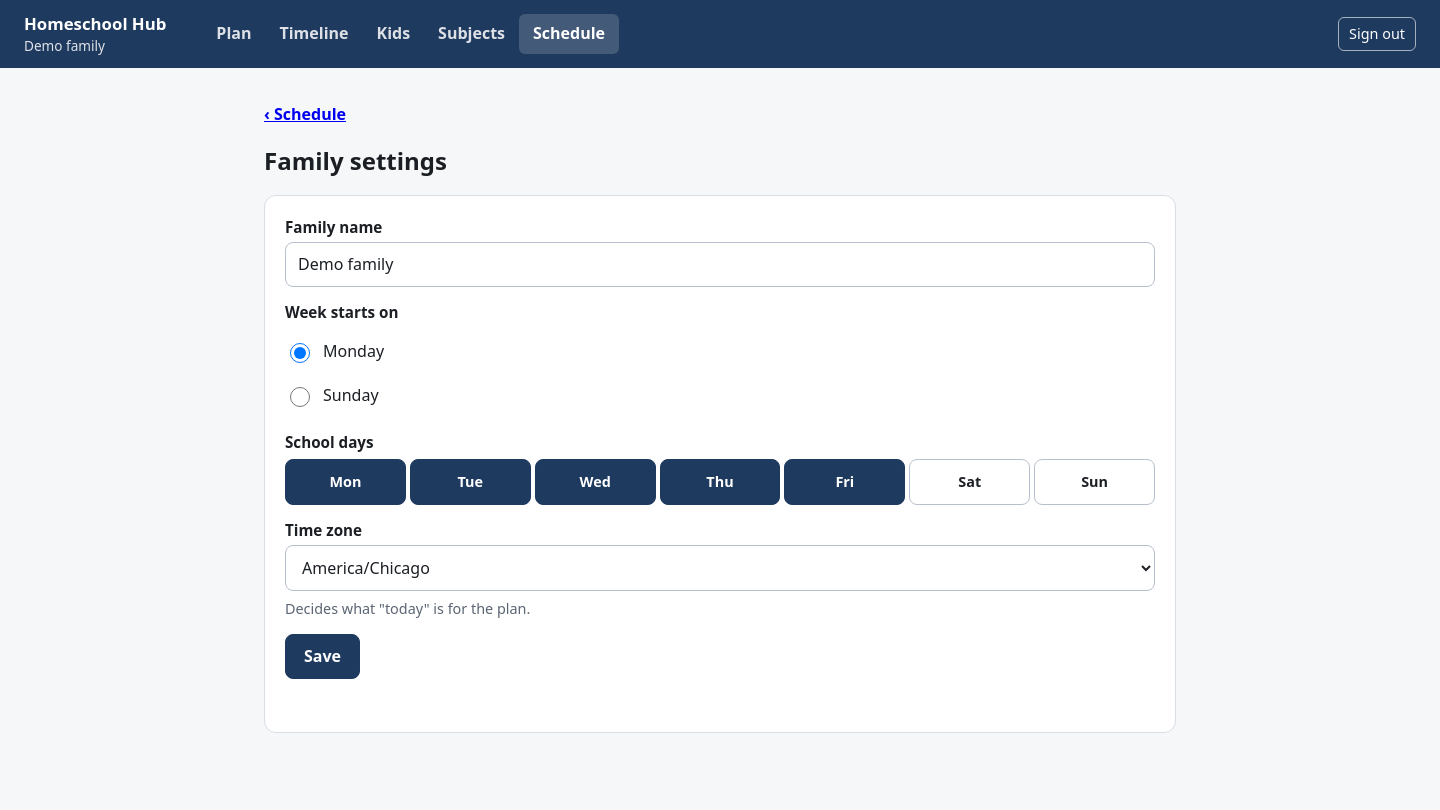
Family settings form › time zone change sends only timeZone
Expected: the form named "Family settings" is shown, [264, 195, 1176, 733]
Select "America/New York" in the dropdown labelled "Time zone": x=720, y=568 [285, 545, 1155, 591]
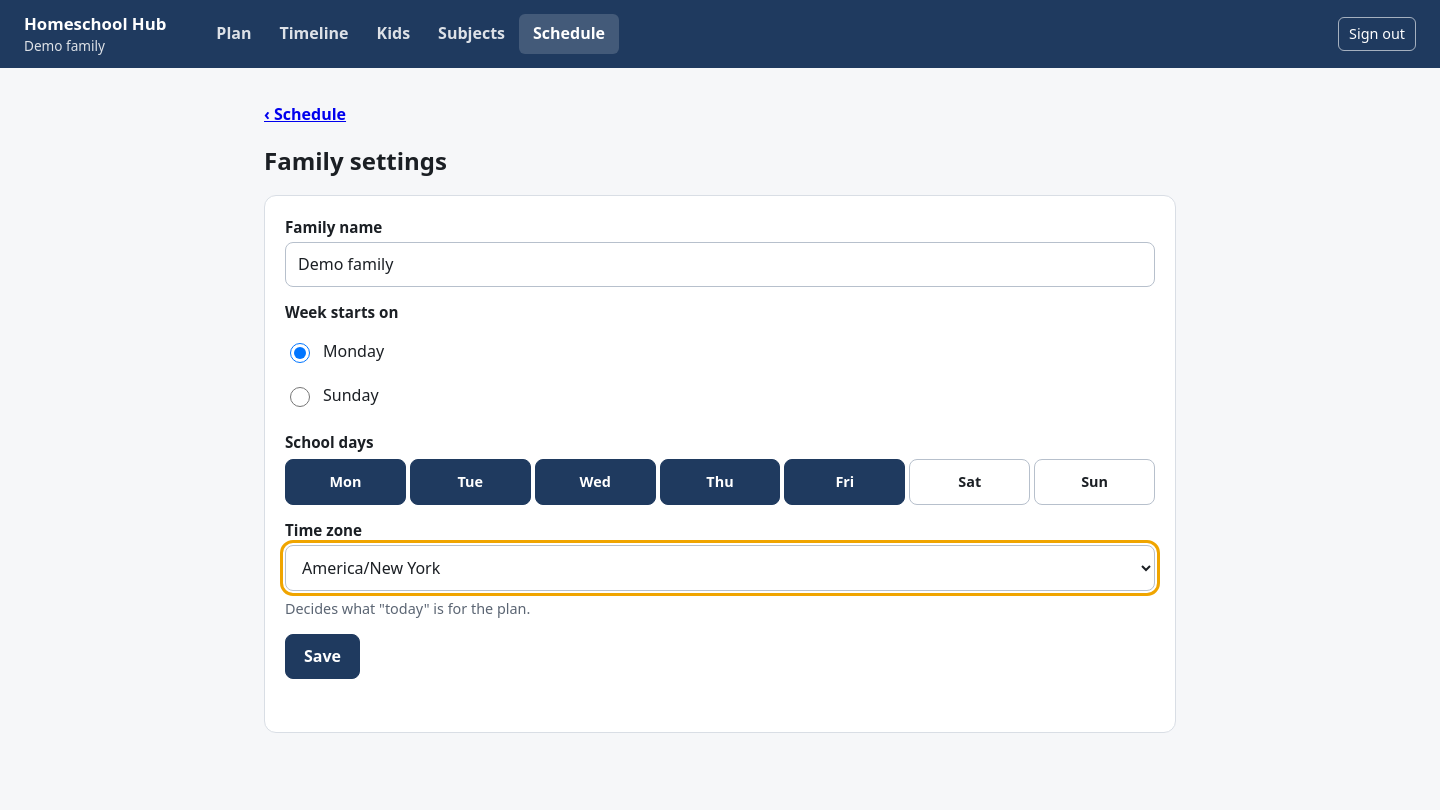
Click the button "Save": x=322, y=657 [285, 634, 360, 679]
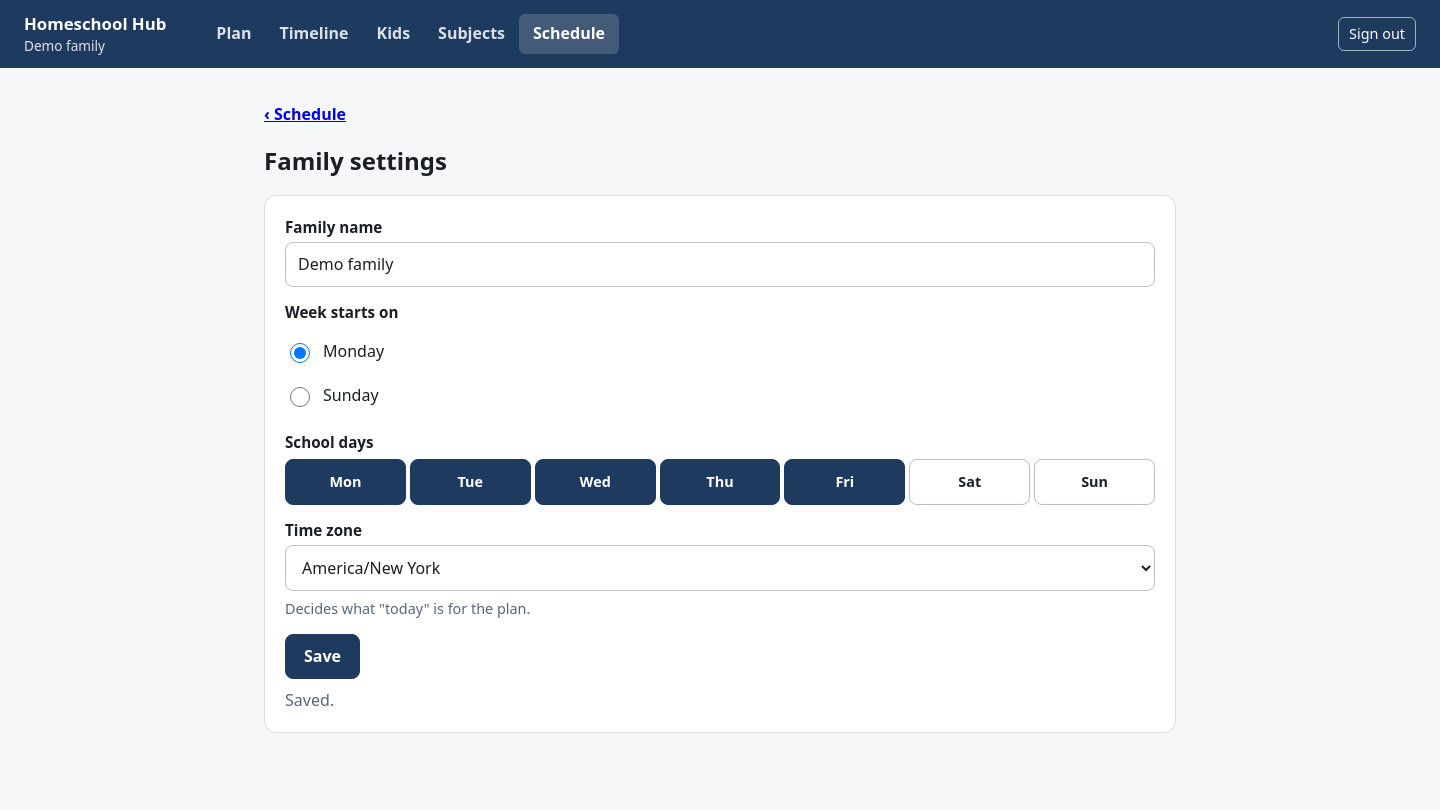
Now the text "Saved." is shown, box [285, 689, 334, 711]
